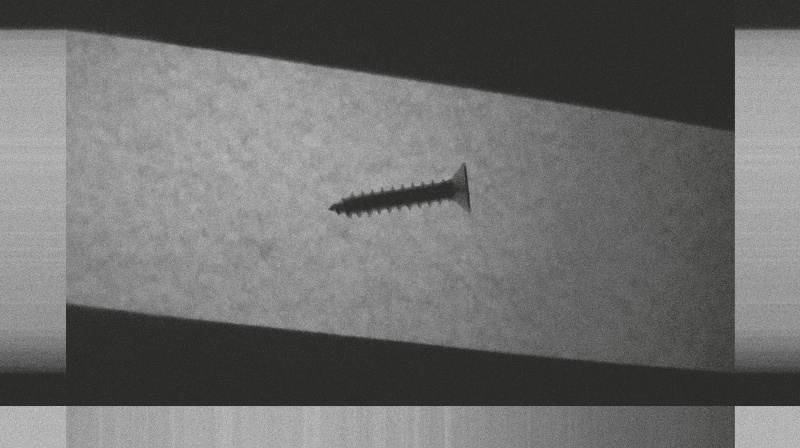S001: (324, 157, 473, 223)
